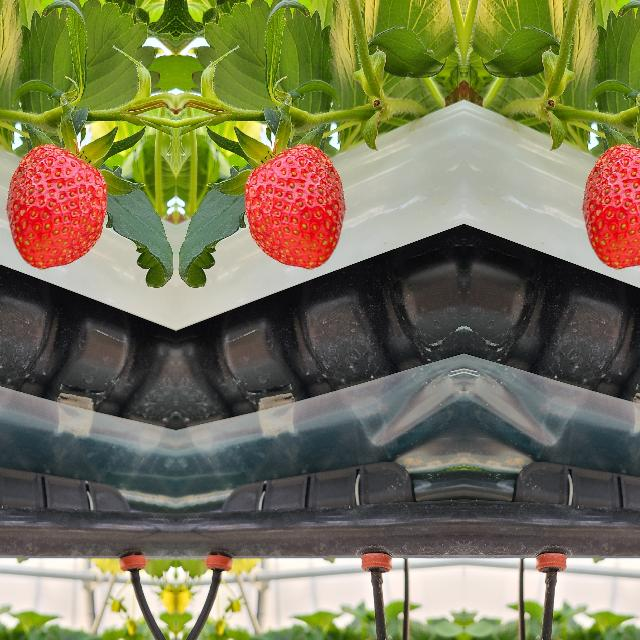Health_100: (243, 144, 345, 270), (5, 144, 107, 270), (581, 143, 640, 270)
